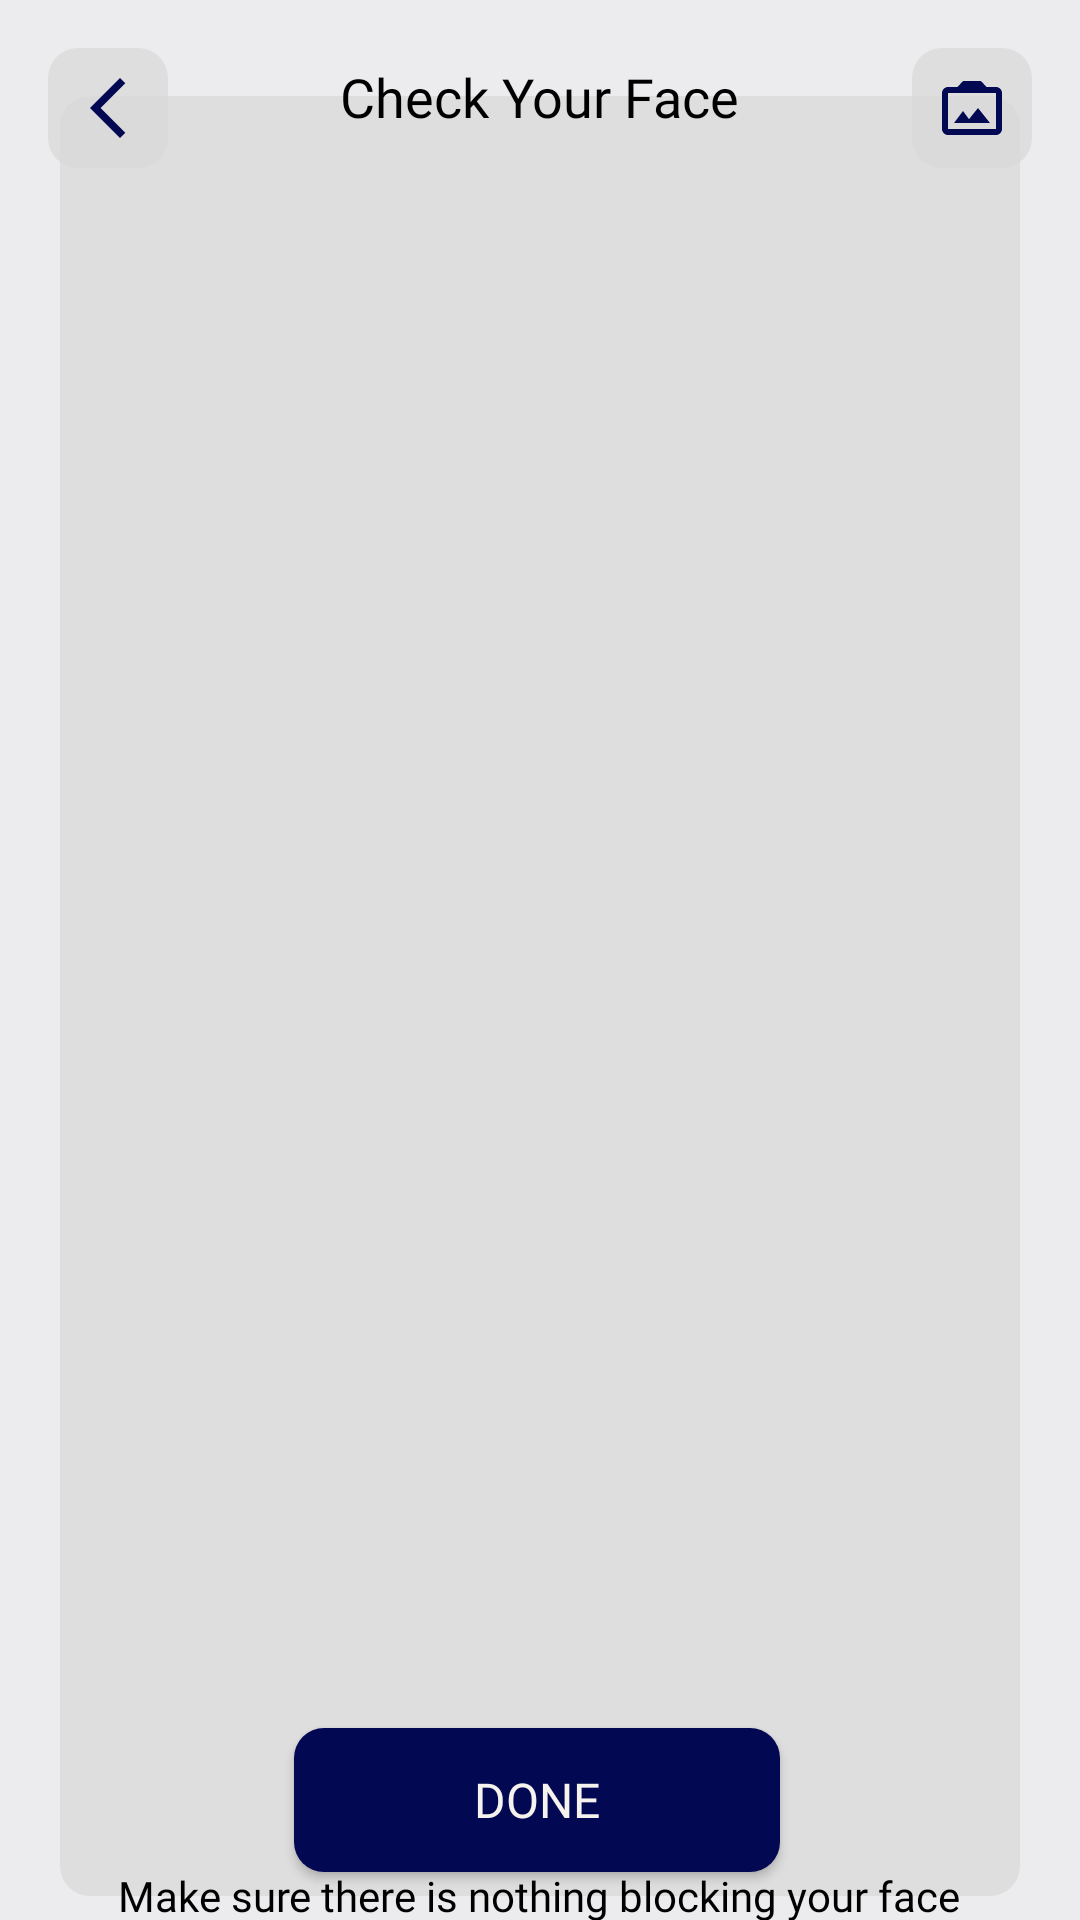

Icon click points for this 1080×1920 phone screenshot, format [x,y]:
arrow back: [107,108]
photo camera back: [972,108]
